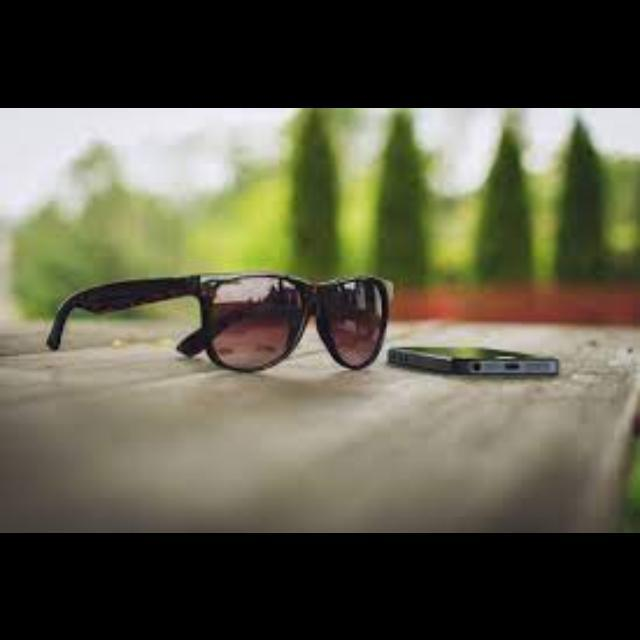sunglasses: (48, 269, 392, 371)
